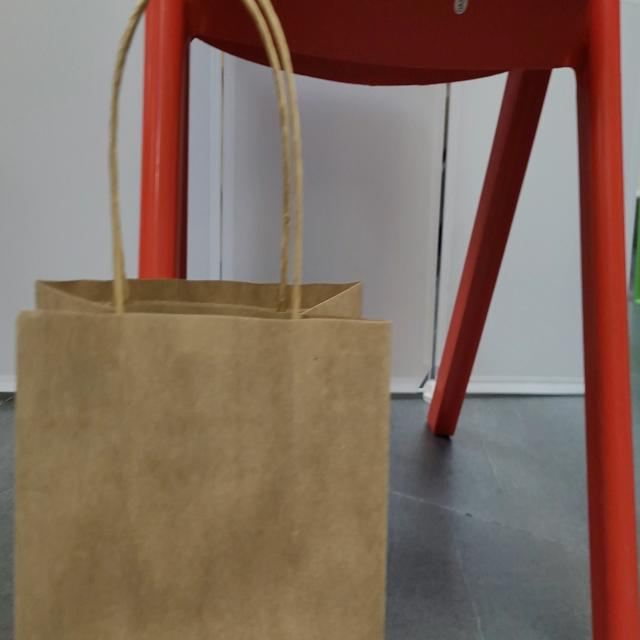paper bag: (13, 0, 396, 640)
